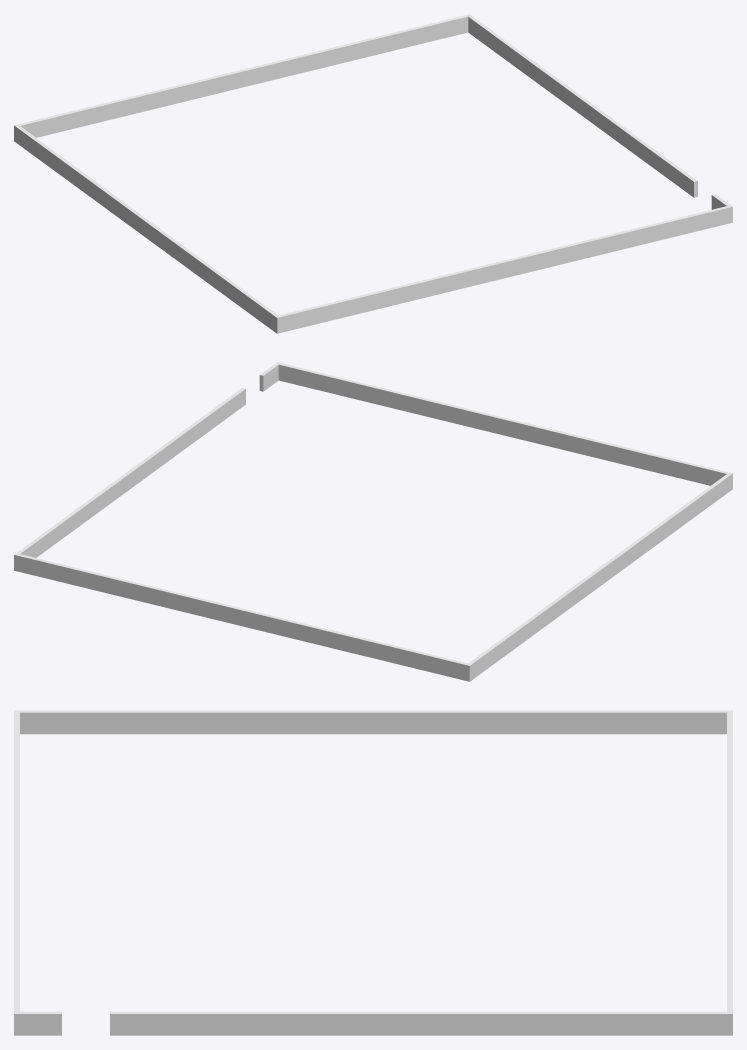
Rendered from SM_Walls.fbx.
3 views of the same model, one above another, from view 1: azimuth 30°, elevation 25°; view 2: azimuth 150°, elevation 25°; view 3: azimuth 270°, elevation 25° (orthographic). The views are drawn at different scales.
Parts seen in each view (by area): view 1: SM_Walls; view 2: SM_Walls; view 3: SM_Walls.
Boxes of the visible parts, x1=… form: SM_Walls: x1=14, y1=14, x2=732, y2=333; SM_Walls: x1=14, y1=362, x2=732, y2=681; SM_Walls: x1=14, y1=710, x2=732, y2=1035.
Size of the model in its own units: 3000 by 100 by 3000.
